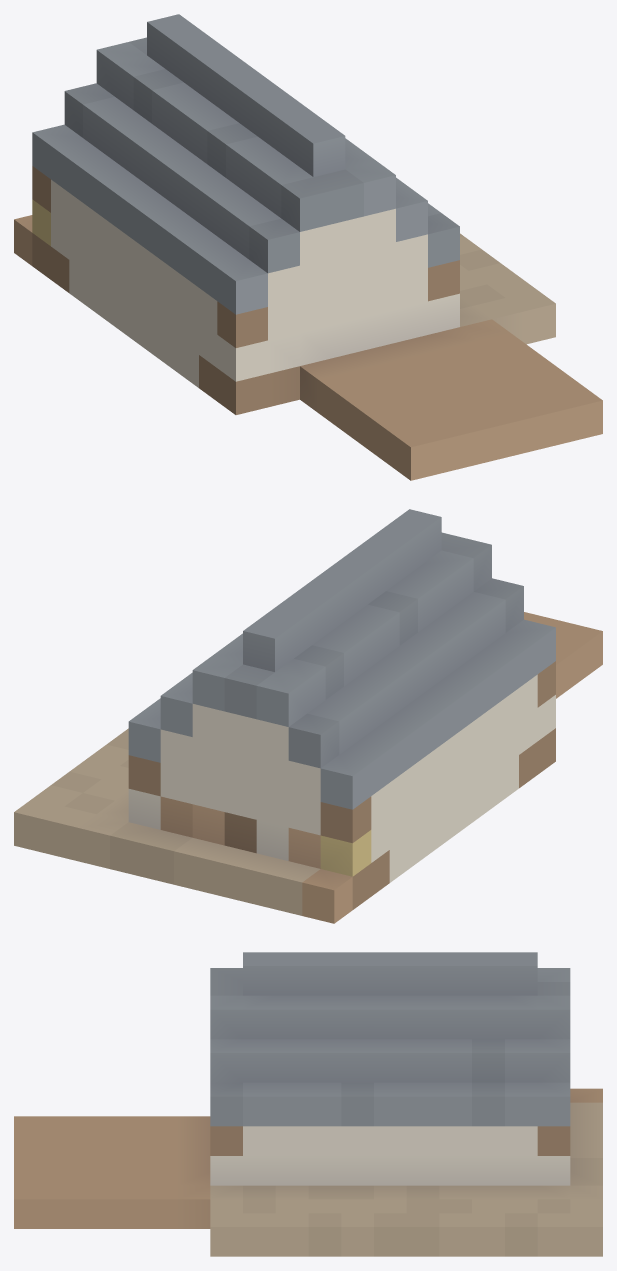
File: salt_pans.lite.glb
3 views of the same model, one above another, from view 1: azimuth 30°, elevation 25°; view 2: azimuth 150°, elevation 25°; view 3: azimuth 270°, elevation 25° (orthographic). The views are drawn at different scales.
Parts seen in each view (by area): view 1: salt_pans; view 2: salt_pans; view 3: salt_pans.
Boxes of the visible parts, x1,y1,x2,y2 form: salt_pans: (14,14,602,480); salt_pans: (14,509,602,923); salt_pans: (14,952,602,1256).
Size of the model in its own units: 5 by 3.5 by 9.
